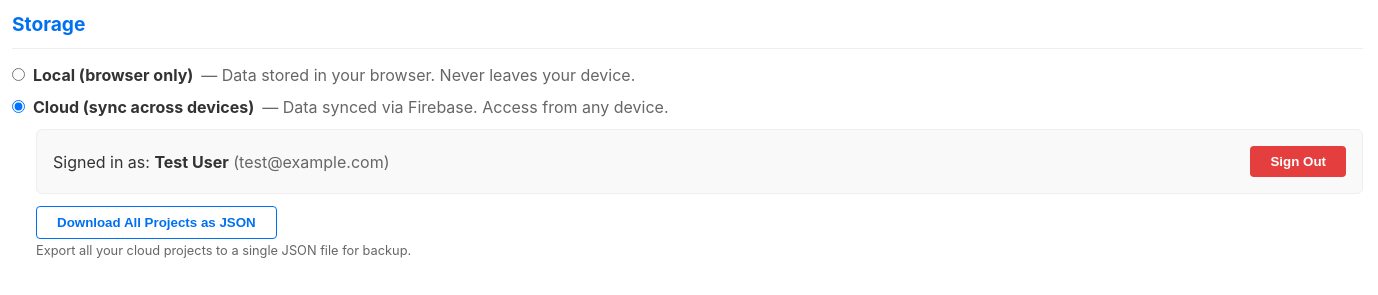
Scenario: StorageSection › Download All Projects as JSON › reports how many projects were exported after a complete export
The image size is (1378, 295).
Click the button "Download All Projects as JSON" at (156, 222), box [36,206,277,239]
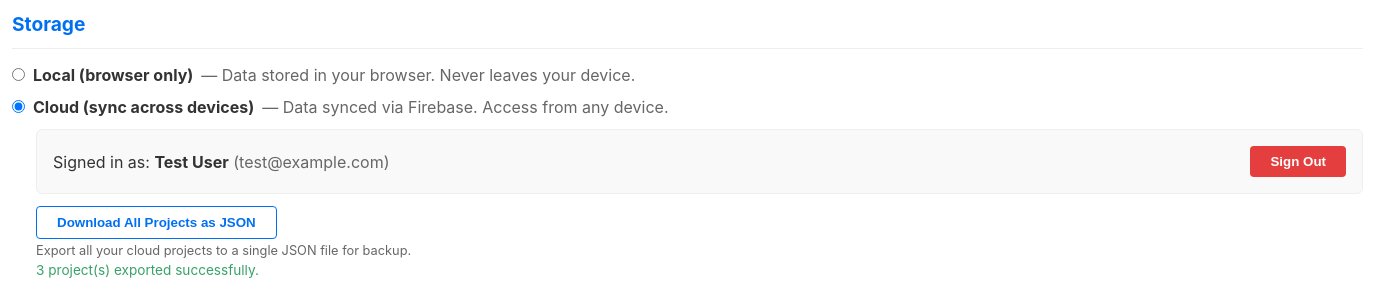
expect the text "3 project(s) exported successfully." is shown: met, box [36,262,259,278]
